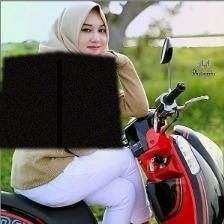Cadar_Niqab: (0, 3, 123, 148)
